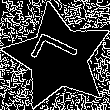L_SE: (29, 33, 88, 82)
